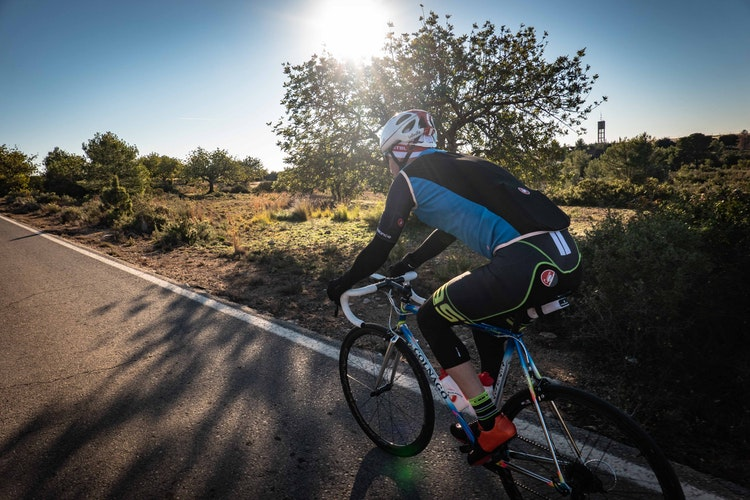helmet: (370, 104, 443, 149)
